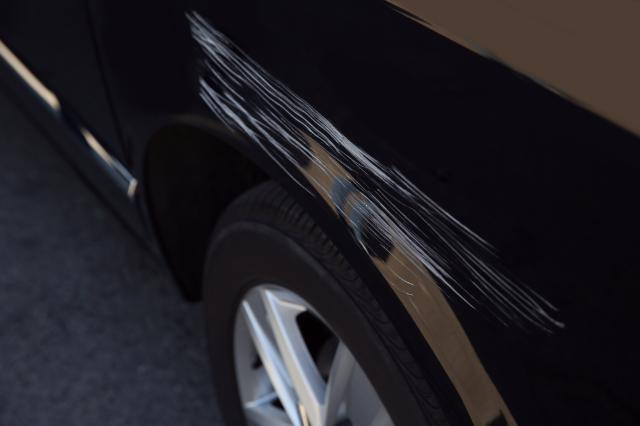scratch: (185, 6, 572, 336)
